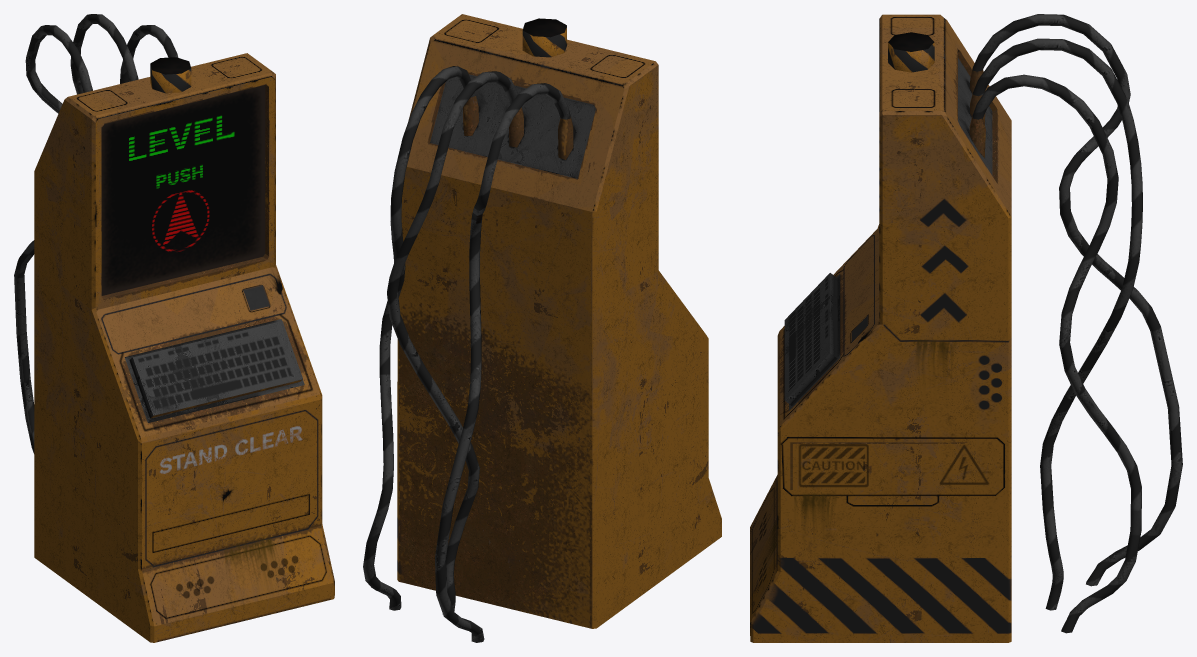
Rendered from ElevatorControl002.fbx.
3 views of the same model, side by side, from view 1: azimuth 30°, elevation 25°; view 2: azimuth 150°, elevation 25°; view 3: azimuth 270°, elevation 25° (orthographic). The views are drawn at different scales.
Parts seen in each view (by area): view 1: ControlPanel, Wires; view 2: ControlPanel, Wires; view 3: ControlPanel, Wires.
Boxes of the visible parts, <box> form: ControlPanel: <box>34,53,334,642</box>; Wires: <box>14,14,178,453</box>; ControlPanel: <box>397,14,721,628</box>; Wires: <box>363,66,573,642</box>; ControlPanel: <box>750,14,1011,642</box>; Wires: <box>969,14,1182,633</box>.
Bounding box in the file's own units: 200 × 521 × 370.
1 material, 1 textured.
